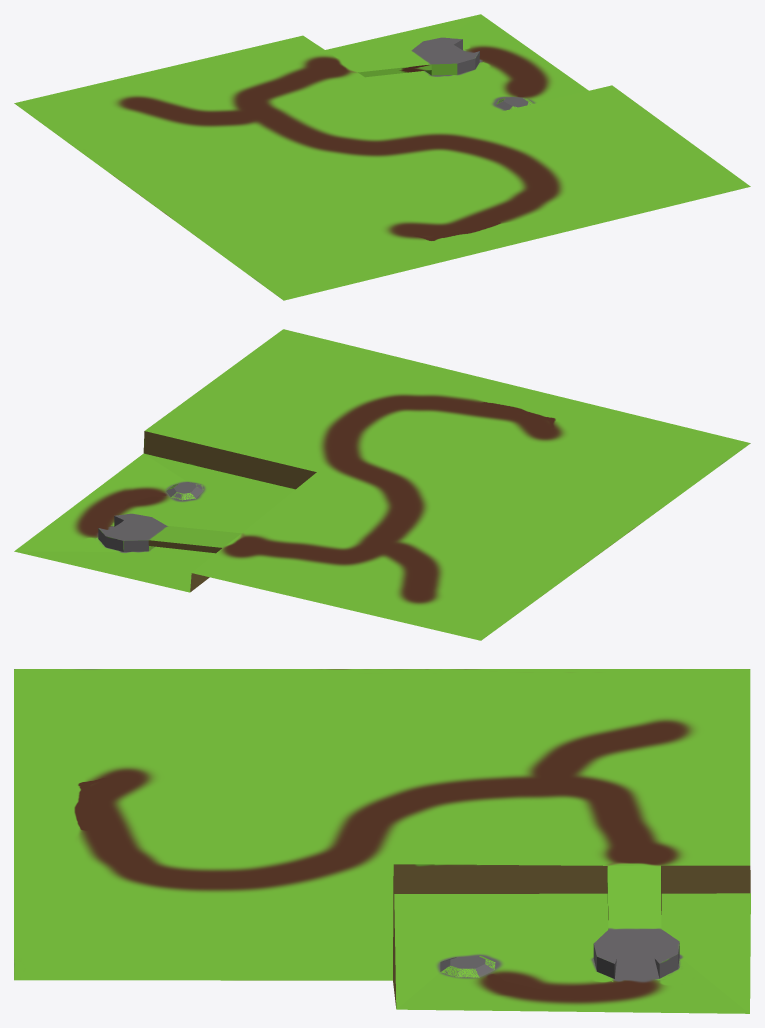
The model's file is Floor.fbx.
3 views of the same model, one above another, from view 1: azimuth 30°, elevation 25°; view 2: azimuth 150°, elevation 25°; view 3: azimuth 270°, elevation 25° (orthographic). The views are drawn at different scales.
Visible parts, largest first — view 1: floor; view 2: floor; view 3: floor.
Boxes of the visible parts, left/top/right/bottom form: floor: left=14, top=14, right=750, bottom=300; floor: left=14, top=329, right=750, bottom=640; floor: left=14, top=669, right=750, bottom=1013.
Size of the model in its own units: 8000 by 420 by 8006.
Materials: 1 (1 with a texture image).
